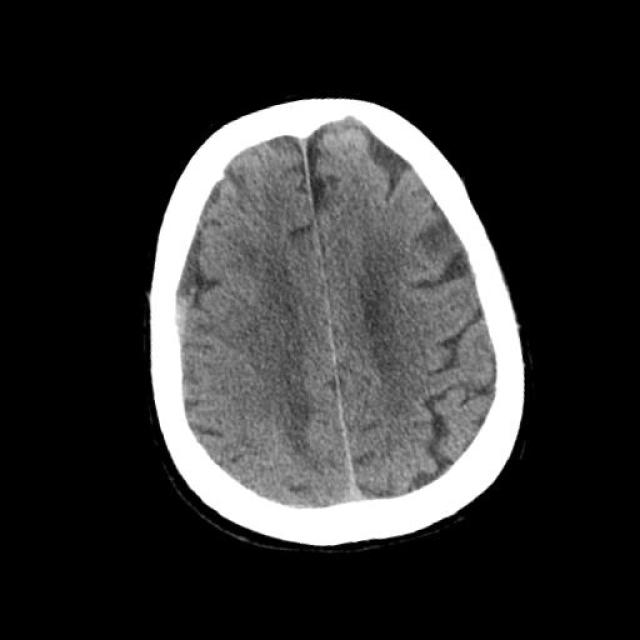Subdural: (128, 252, 226, 406)
